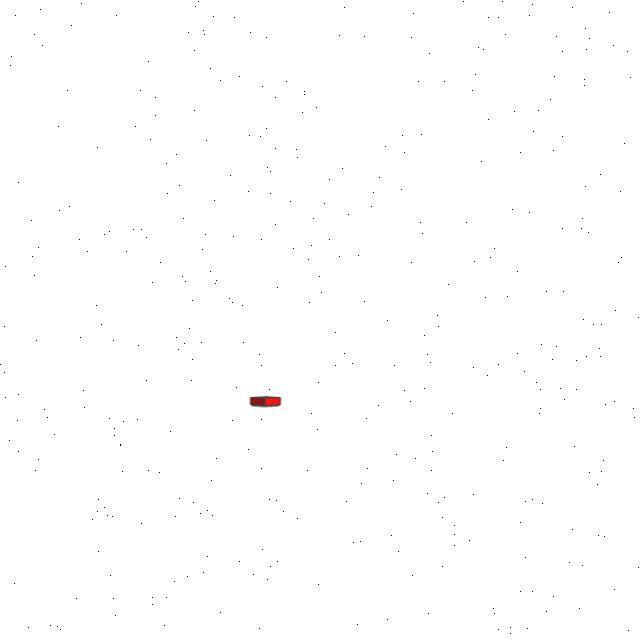3070b: (246, 392, 286, 410)
